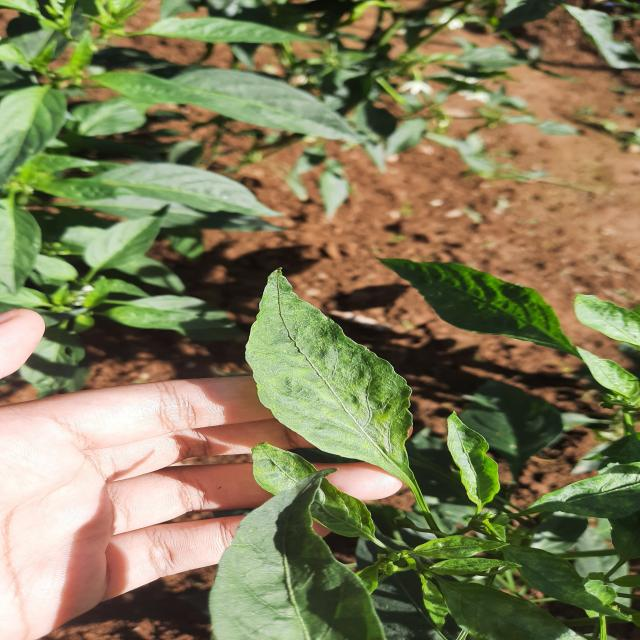thrips: (225, 270, 435, 476)
